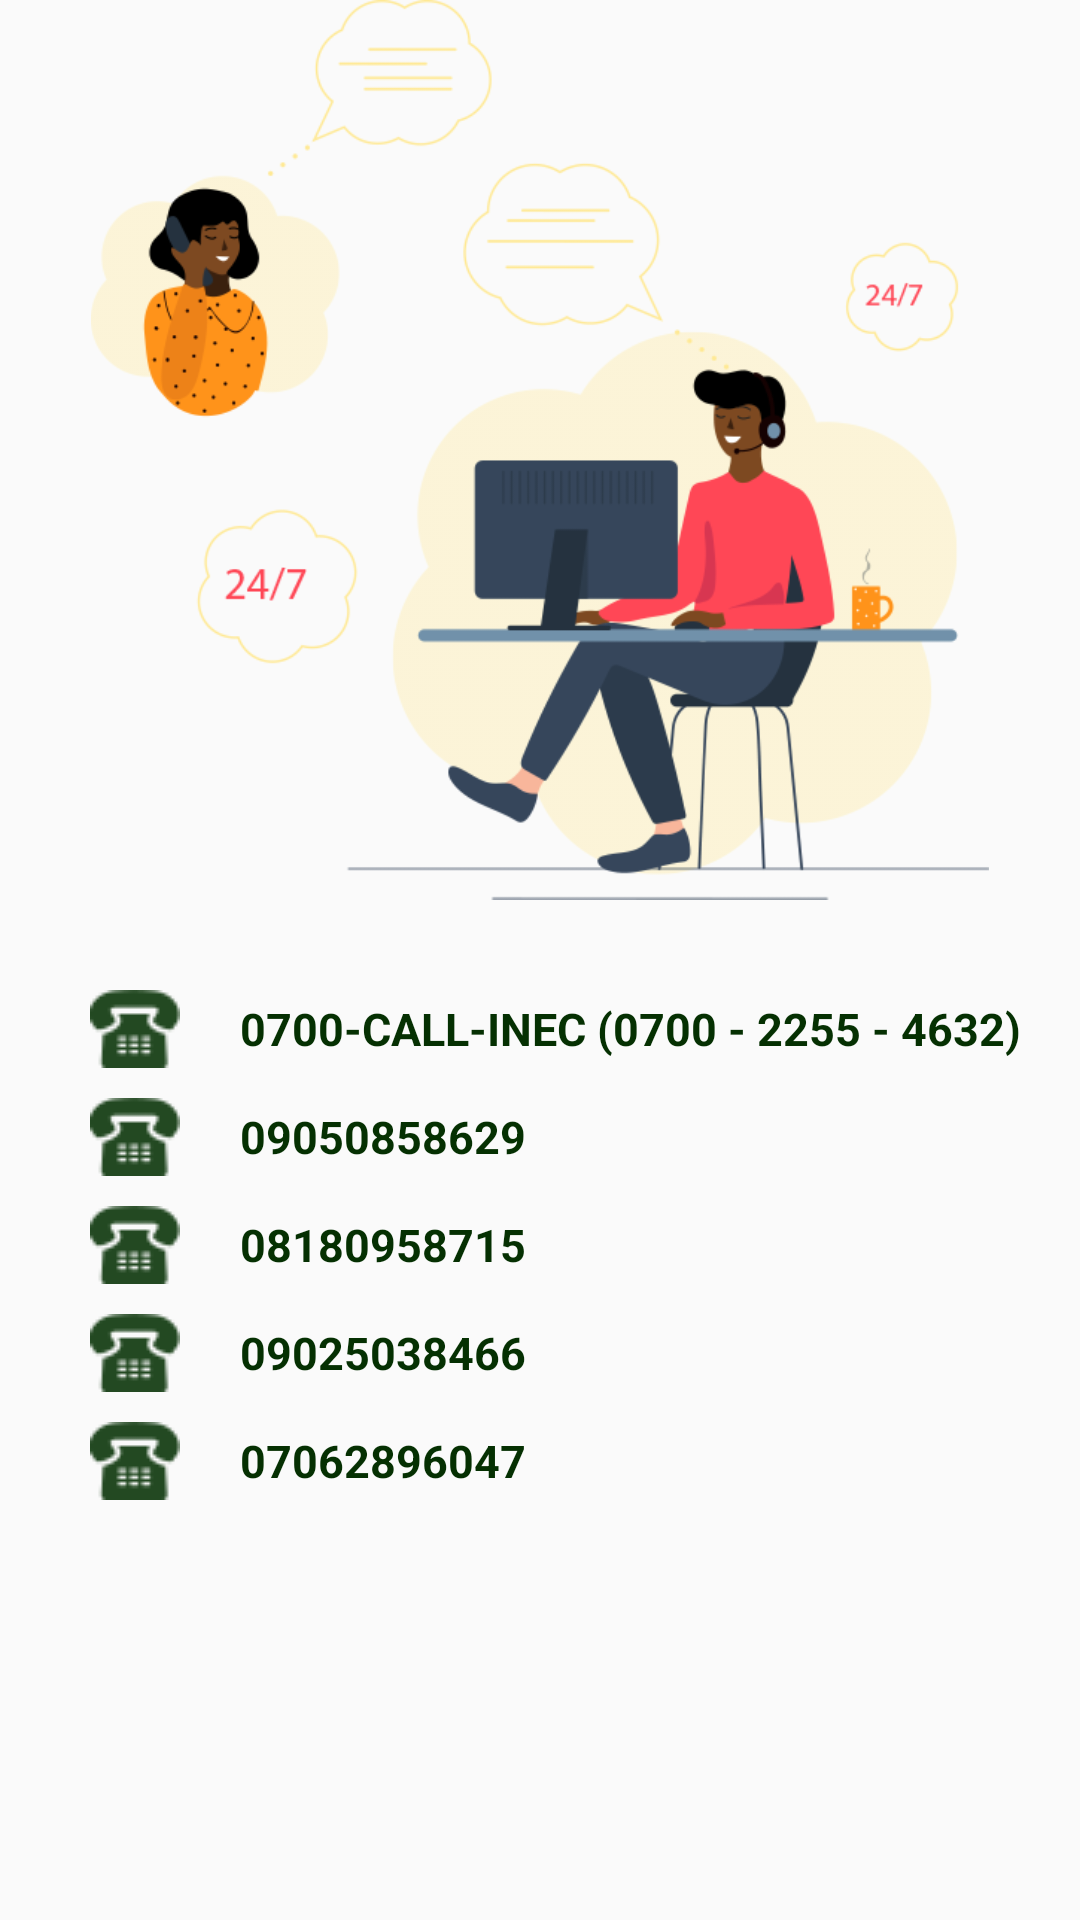

Locate icon controls on the screen. Image size 1080w x 1920h, boxes as (x1=x1, y1=y1, x2=x2, y2=y2).
inec phone: (x1=90, y1=990, x2=180, y2=1068), (x1=90, y1=1098, x2=180, y2=1176), (x1=90, y1=1206, x2=180, y2=1284), (x1=90, y1=1314, x2=180, y2=1392), (x1=90, y1=1422, x2=180, y2=1500)
